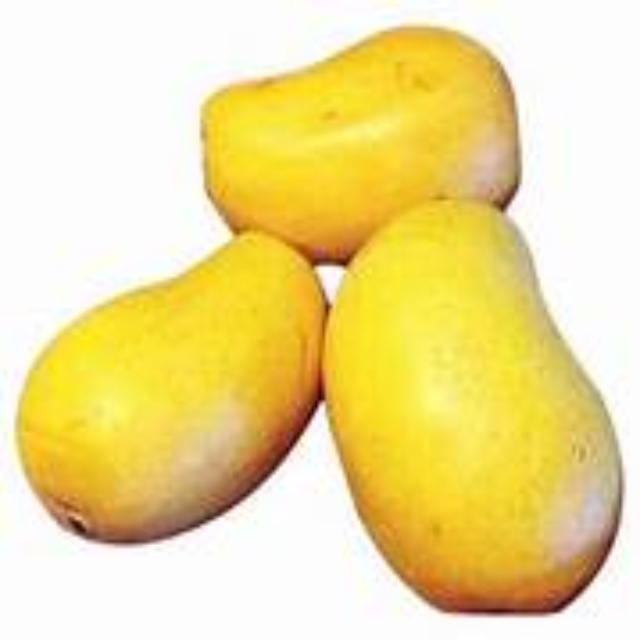mango: (326, 200, 631, 618), (15, 233, 346, 550), (193, 26, 531, 261)
